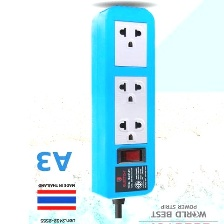three_eye_plug: (86, 2, 162, 202)
